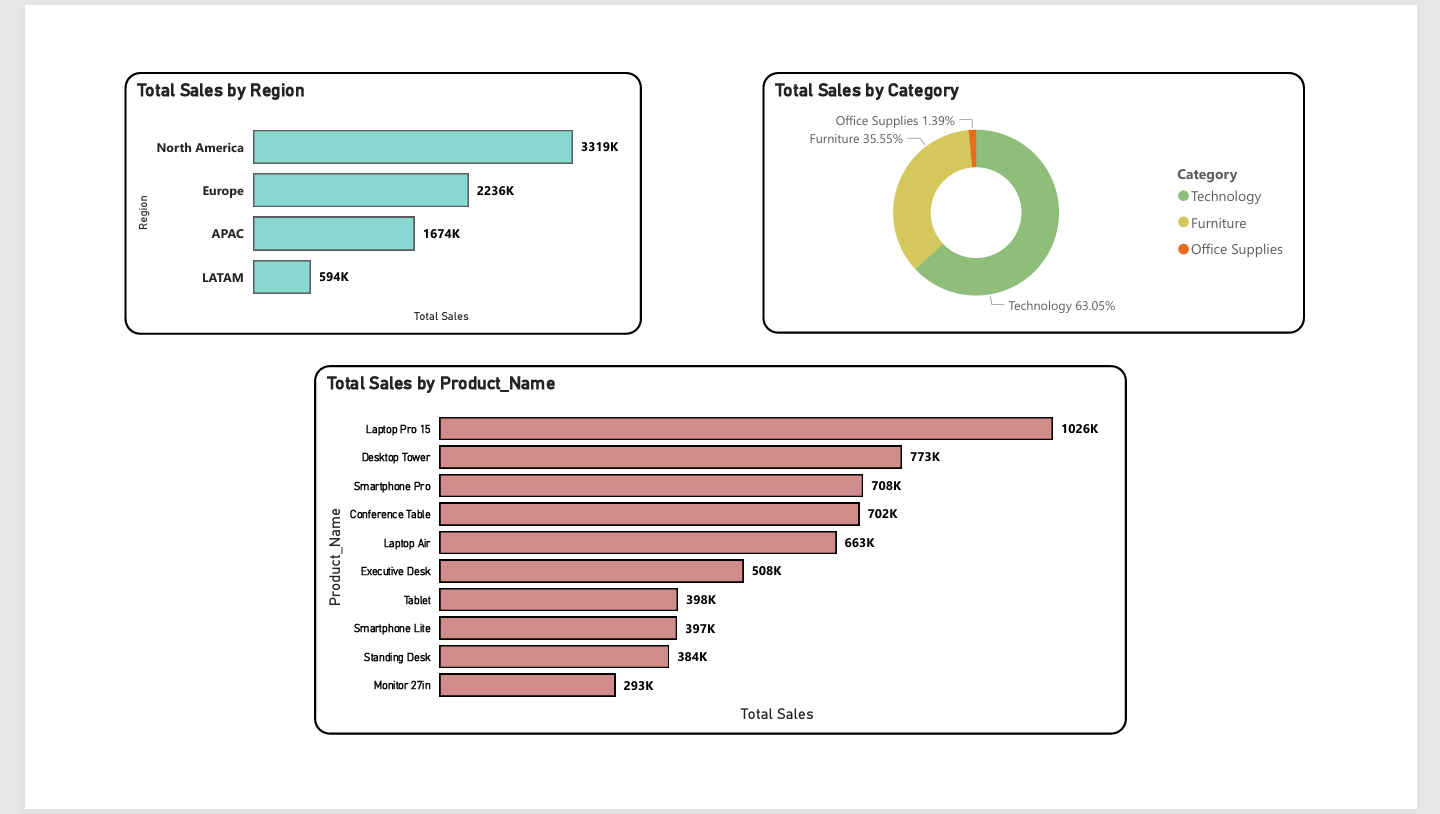

Layout of this report page (visuals, bound fields, positions):
{"tool":"powerbi","page":{"name":"Page 2","canvas":[1280,720],"ordinal":1},"visuals":[{"type":"clusteredBarChart","fields":{"Category":["Orders.Region"],"Y":["Sum(Orders.Sales)"]},"box":[70.8,40,493.8,250.8],"z":0},{"type":"donutChart","fields":{"Y":["Sum(Orders.Sales)"],"Category":["Products.Category"]},"box":[680,40,518.3,250],"z":1000},{"type":"clusteredBarChart","fields":{"Category":["Products.Product_Name"],"Y":["Sum(Orders.Sales)"]},"box":[251.7,320,776.7,353.3],"z":2000}]}

Visuals, with their boxes in screenshot pixels (x1, y1, x2, y2), scaled from the page's 1280x720 canvas onto the 1440x814 screenshot:
clusteredBarChart - Orders.Region x Sum(Orders.Sales): Rect(80, 45, 635, 329)
donutChart - Sum(Orders.Sales) x Products.Category: Rect(765, 45, 1348, 328)
clusteredBarChart - Products.Product_Name x Sum(Orders.Sales): Rect(283, 362, 1157, 761)
